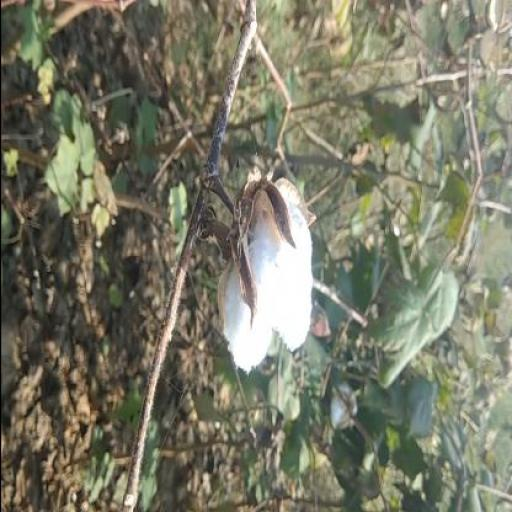cotton_ready: (178, 164, 319, 388)
